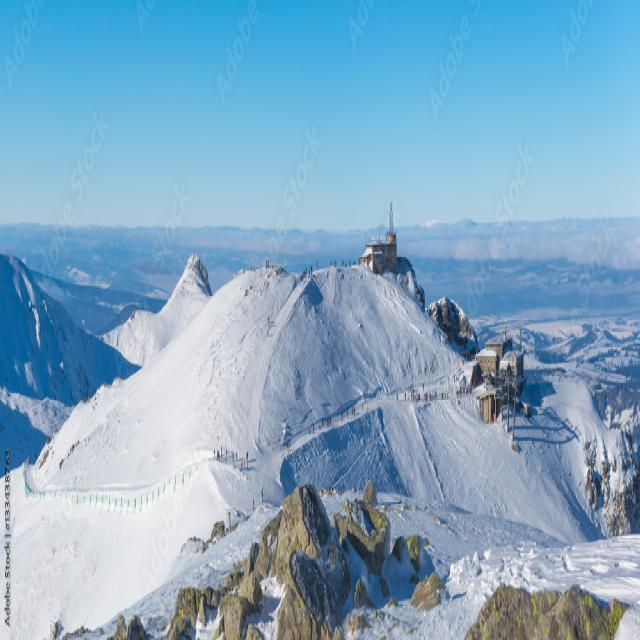Giewont: (172, 197, 216, 314)
Kasprowy Wierch: (327, 143, 447, 366)
